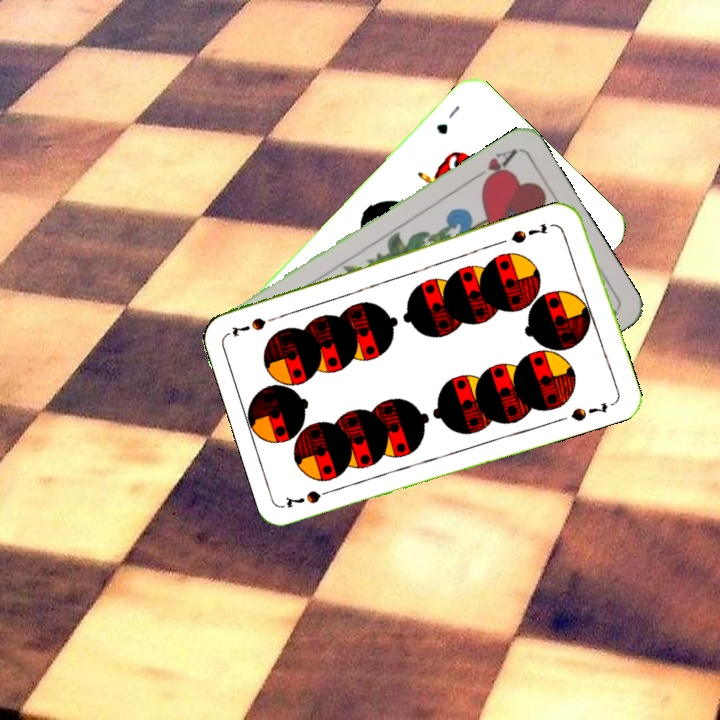GU: (432, 101, 463, 137)
HA: (467, 145, 520, 188)
S7: (281, 484, 340, 511), (507, 219, 550, 246)
